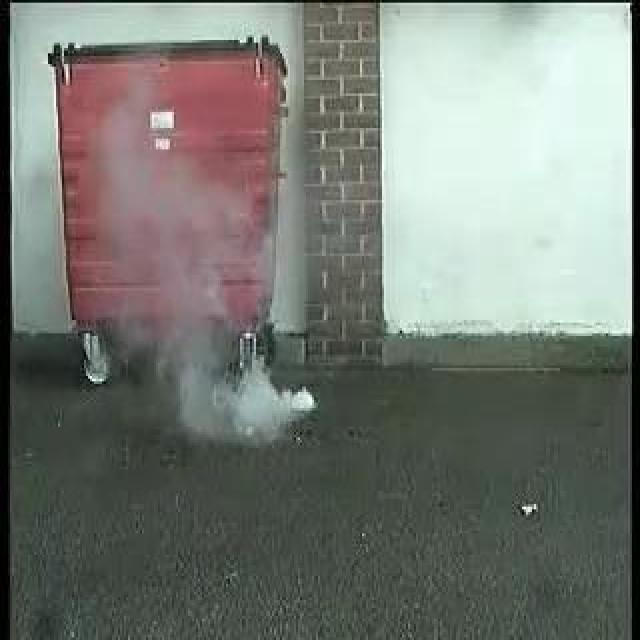Smoke: (123, 309, 319, 440)
